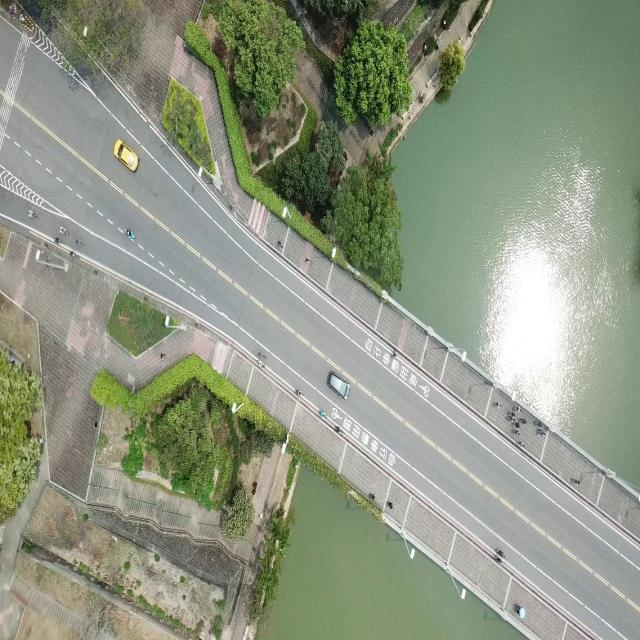bike: (123, 226, 136, 243), (26, 204, 36, 220)
car: (113, 139, 140, 172), (327, 370, 350, 398)
